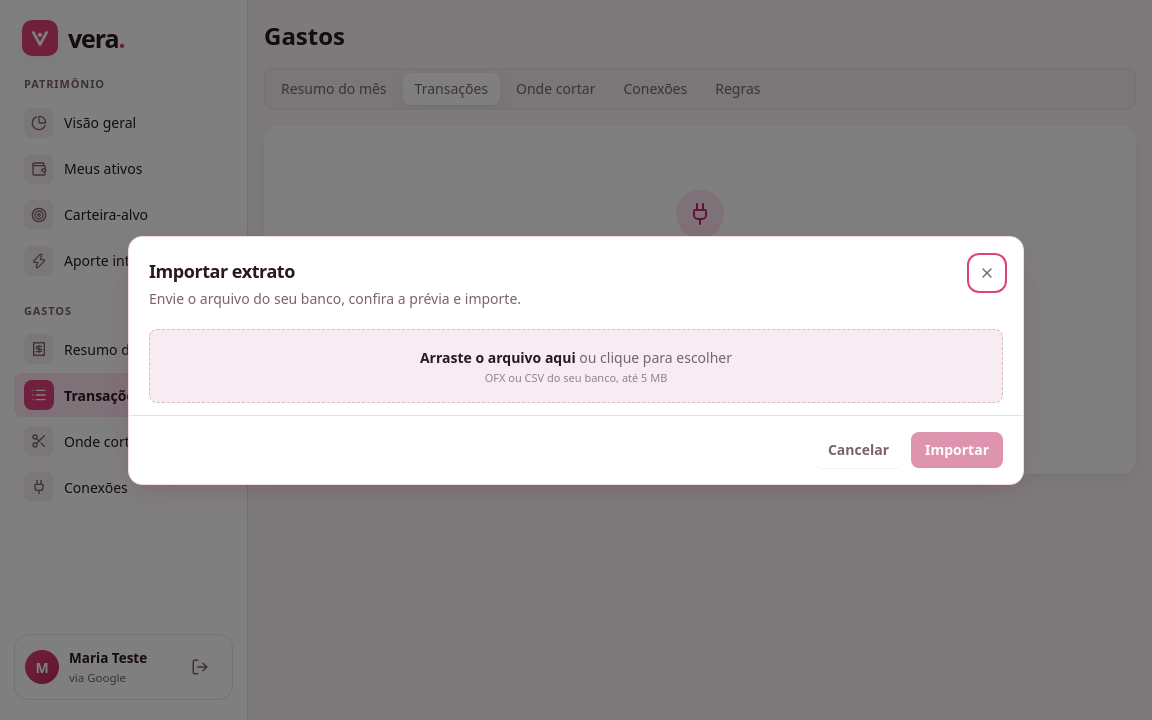
ImportStatementHost › fechar remove o parâmetro e mantém os outros filtros
The width and height of the screenshot is (1152, 720).
expect the heading "Gastos" is shown: met, box [264,19,345,52]
Click the button "Cancelar" at [858, 450], box [814,432,903,468]
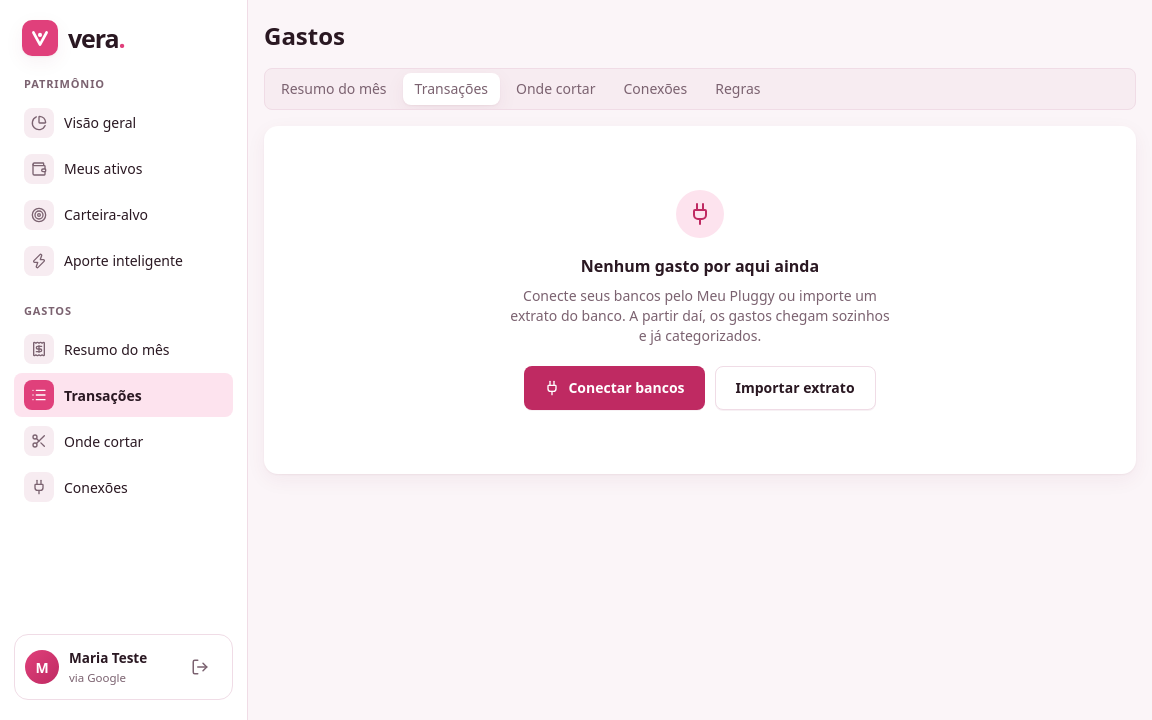
expect the dialog is gone: met
